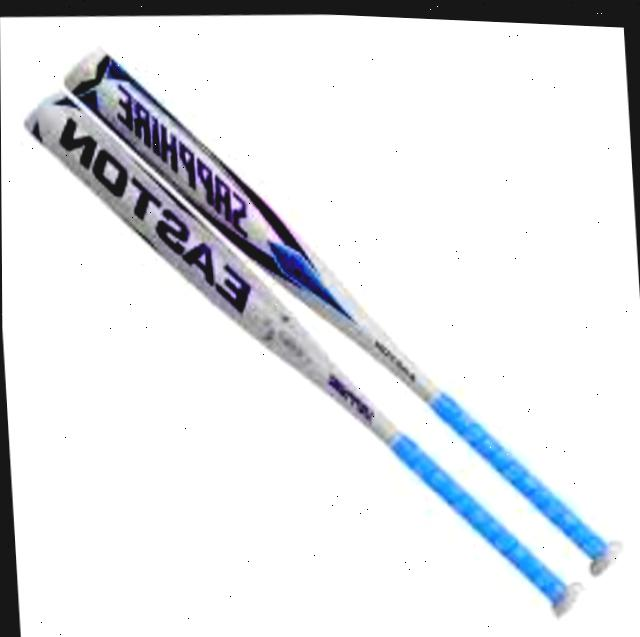baseball bat: (58, 32, 629, 564), (21, 85, 588, 605)
